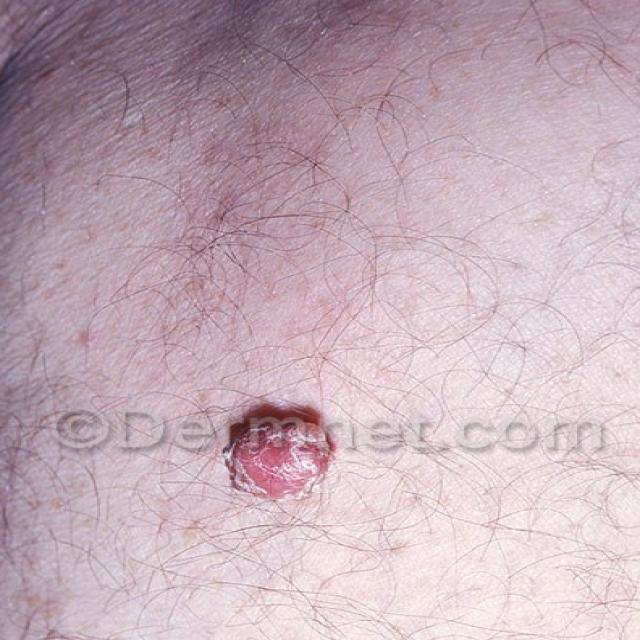Viral Infections: (183, 375, 373, 515)
